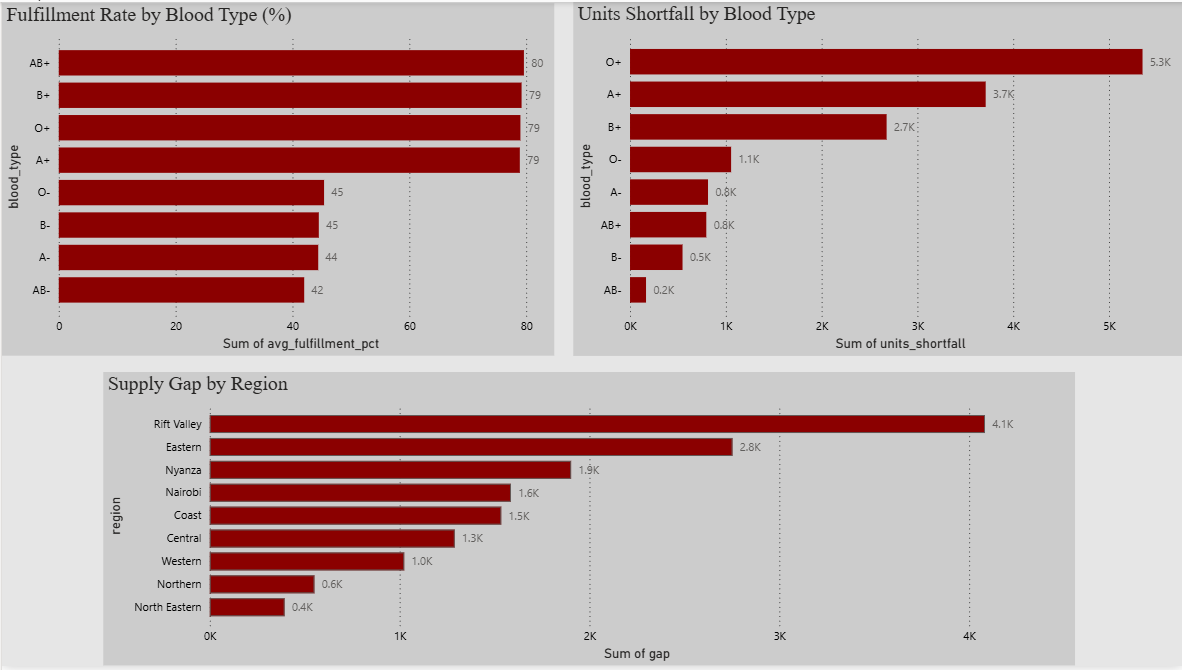

This screenshot's page, from the dashboard's own definition file:
{"tool":"powerbi","page":{"name":"Blood Supply Analysis","canvas":[1280,720],"ordinal":1},"visuals":[{"type":"clusteredBarChart","title":"Fulfillment Rate by Blood Type (%)","fields":{"Category":["public vw_blood_type_shortage.blood_type"],"Y":["Sum(public vw_blood_type_shortage.avg_fulfillment_pct)"]},"box":[0,1.4,599.5,382.5],"z":0},{"type":"clusteredBarChart","title":"Units Shortfall by Blood Type","fields":{"Category":["public vw_blood_type_shortage.blood_type"],"Y":["Sum(public vw_blood_type_shortage.units_shortfall)"]},"box":[619.4,0,660.8,383.9],"z":1000},{"type":"clusteredBarChart","title":"Supply Gap by Region","fields":{"Category":["public vw_regional_gap.region"],"Y":["Sum(public vw_regional_gap.gap)"]},"box":[109.9,401.1,1054.8,318.3],"z":2000}]}

Visuals, with their boxes in screenshot pixels (x1, y1, x2, y2), scaled from the page's 1280x720 canvas onto the 1182x670 screenshot:
"Fulfillment Rate by Blood Type (%)" clusteredBarChart: x1=0, y1=1, x2=554, y2=357
"Units Shortfall by Blood Type" clusteredBarChart: x1=572, y1=0, x2=1181, y2=357
"Supply Gap by Region" clusteredBarChart: x1=101, y1=373, x2=1076, y2=669
